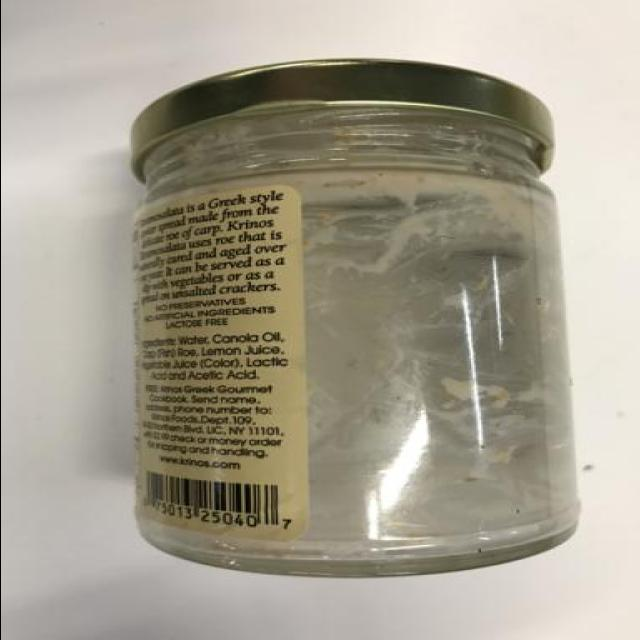litter: (126, 59, 578, 566)
